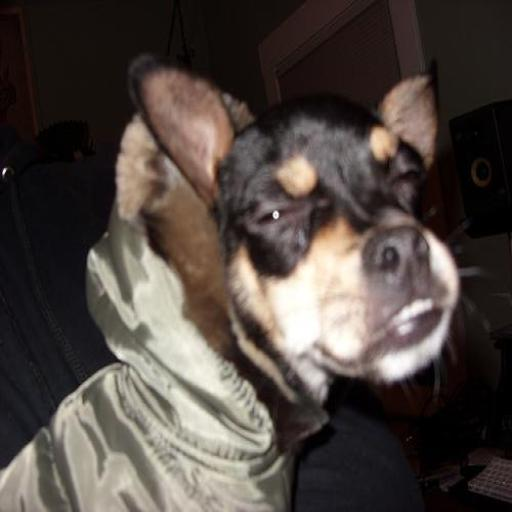dog_face: (143, 49, 463, 396)
